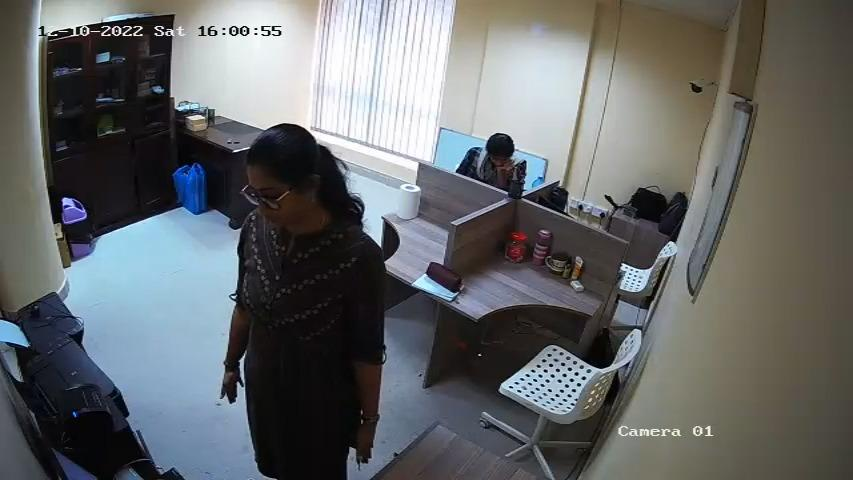no_gloves: (349, 414, 379, 466), (216, 355, 245, 408)
